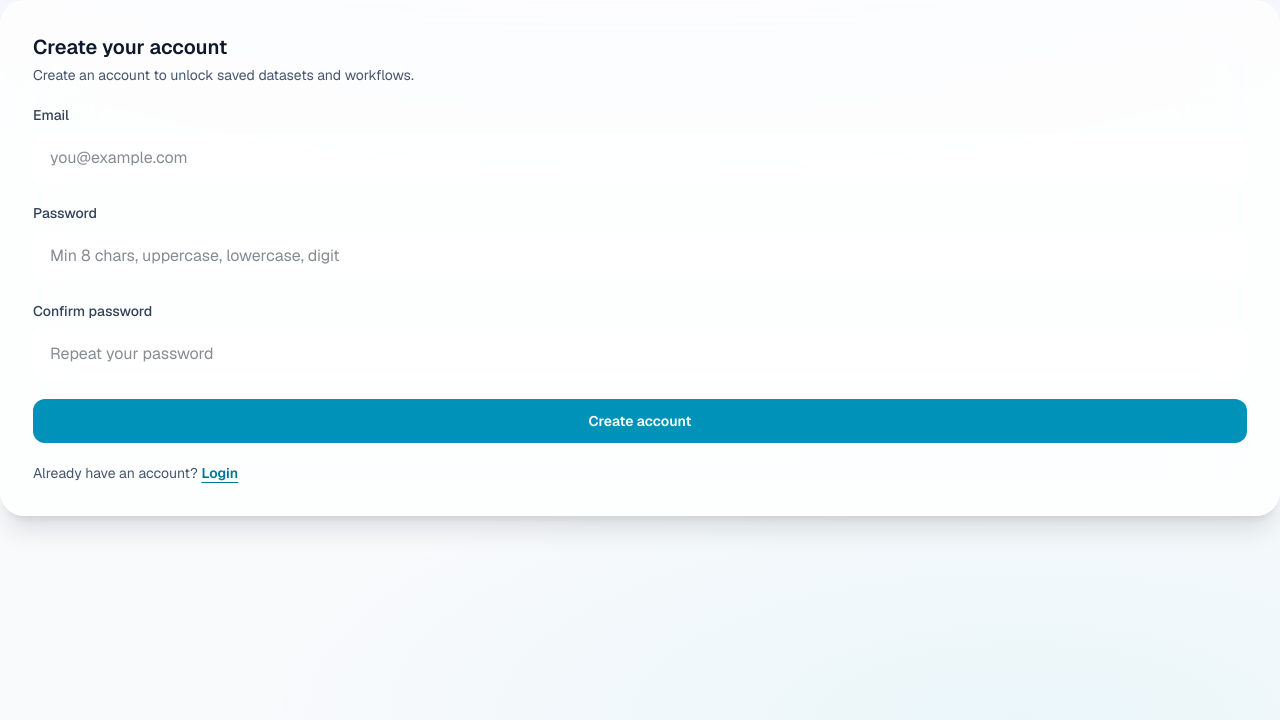
RegisterForm › shows a validation error when the password has no lowercase letter
Type "new-user@example.com" into the field labelled "Email" at [640, 158], box [33,133,1247,183]
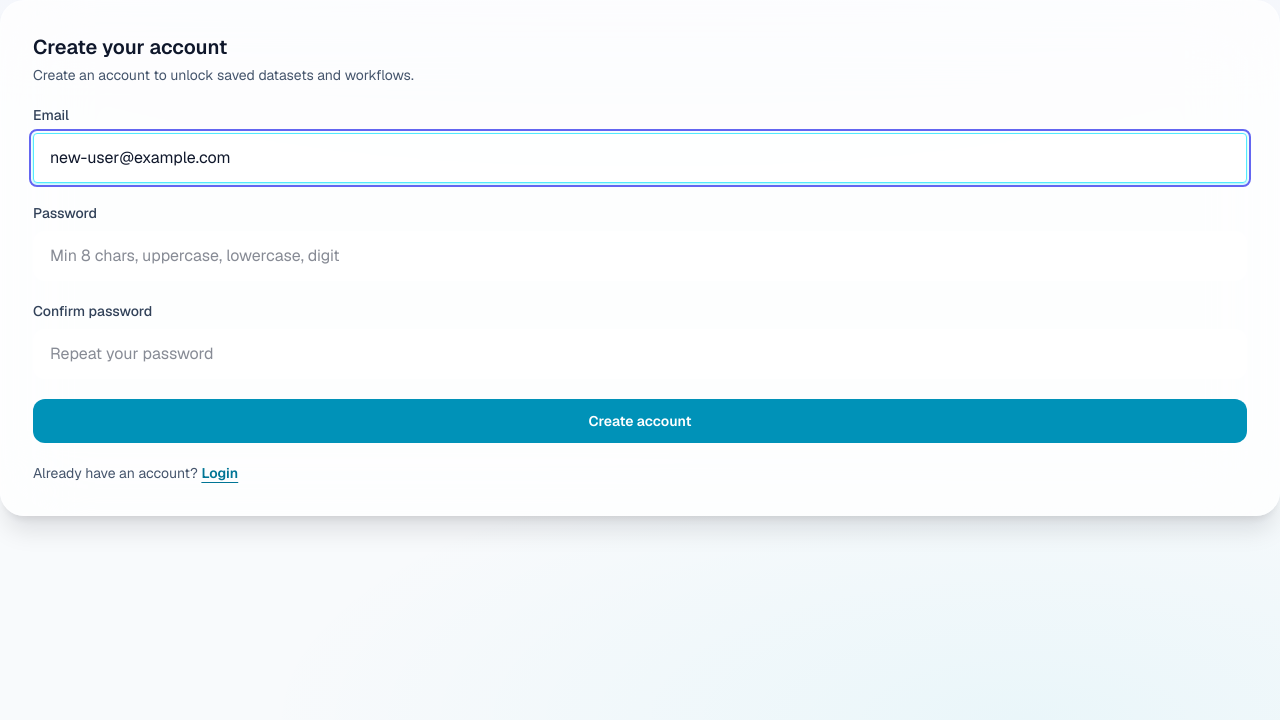
Type "UPPERCASE1" into the password field labelled "Password" at [640, 256], box [33,231,1247,281]
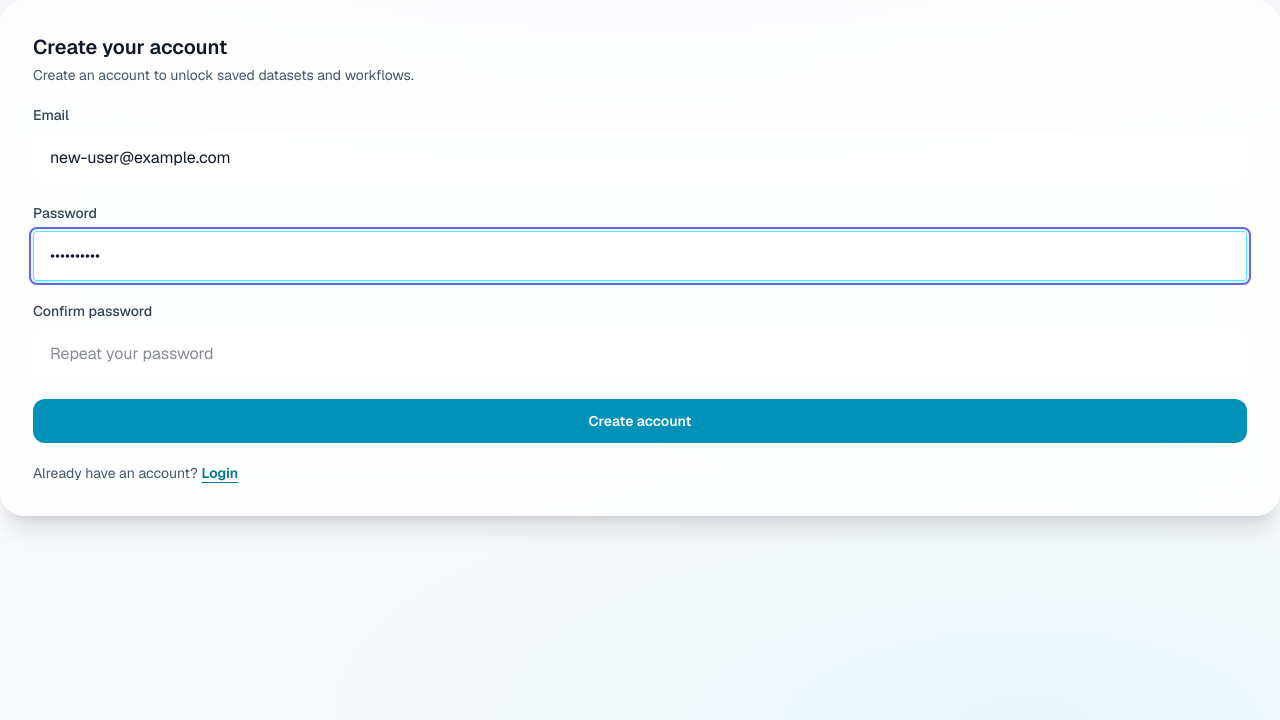
Type "UPPERCASE1" into the password field labelled "Confirm password" at [640, 354], box [33,329,1247,379]
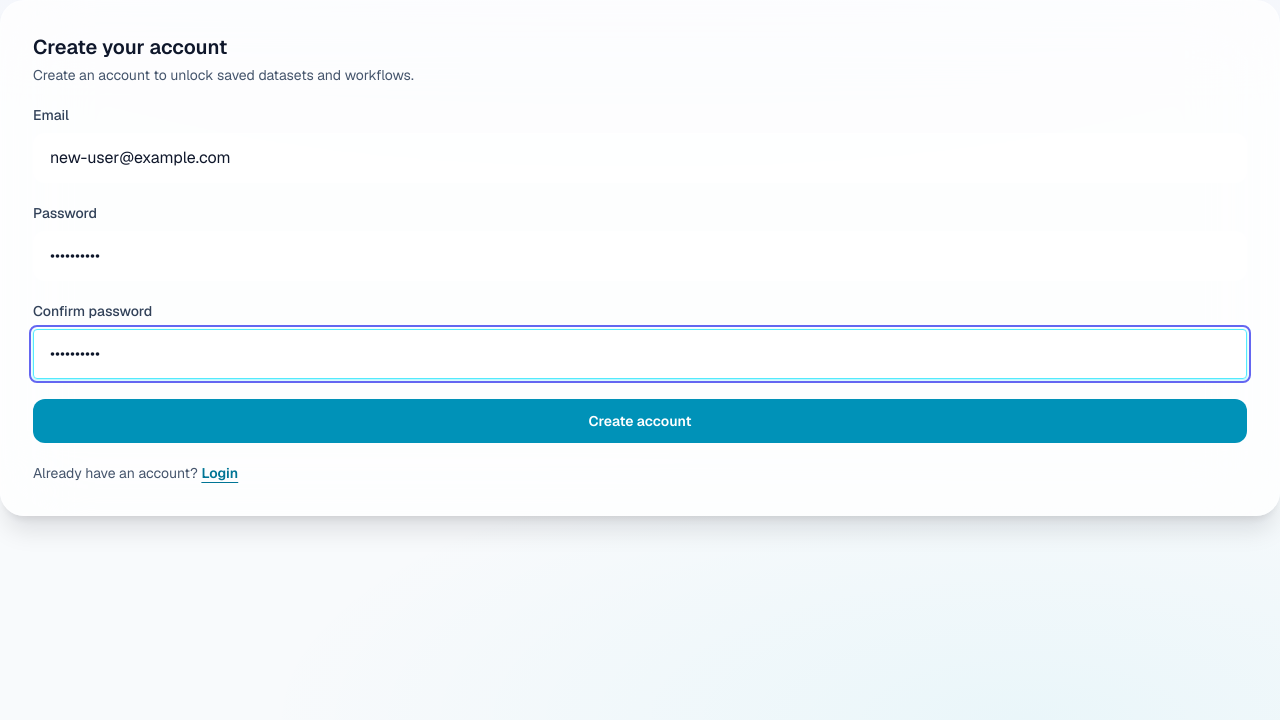
Click the button "Create account" at [640, 421], box [33,399,1247,443]
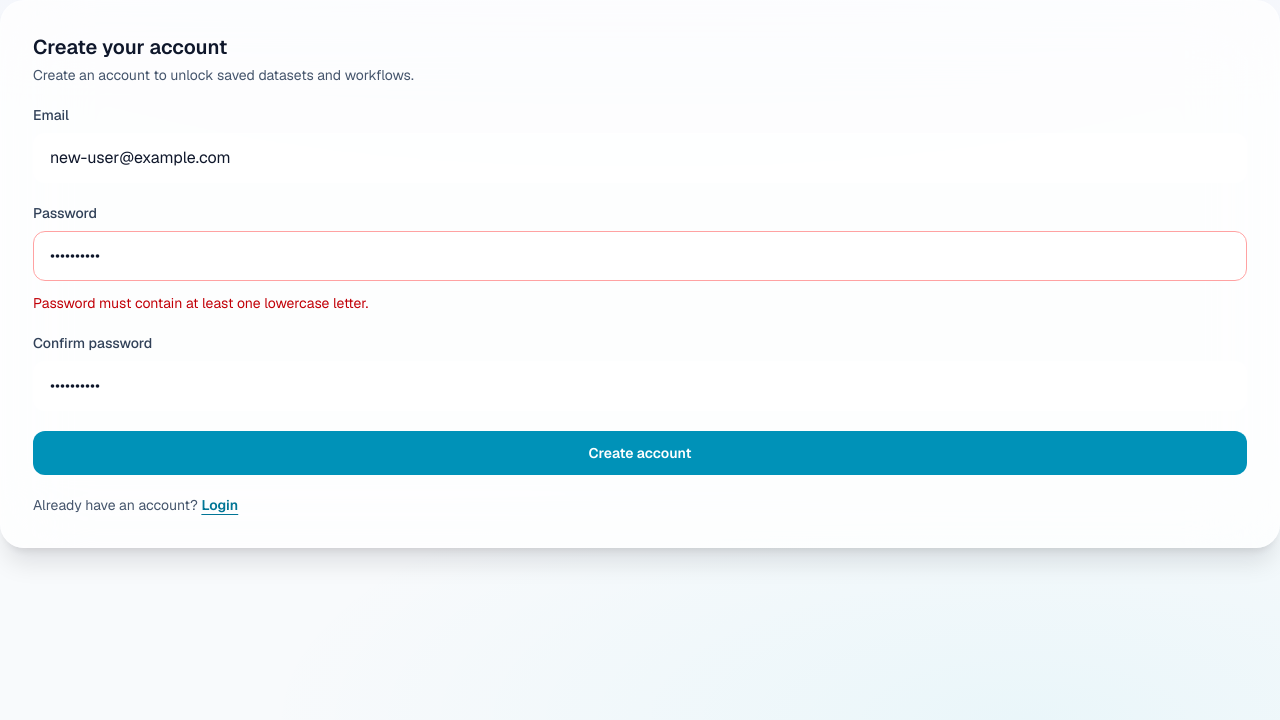
Result: the message reads "Password must contain at least one lowercase letter." at [33,294,368,312]
